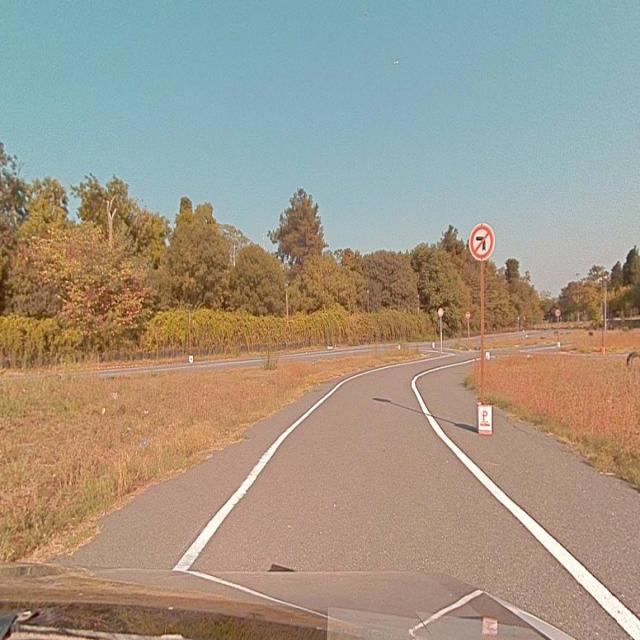soladonulmez: (470, 226, 494, 258)
